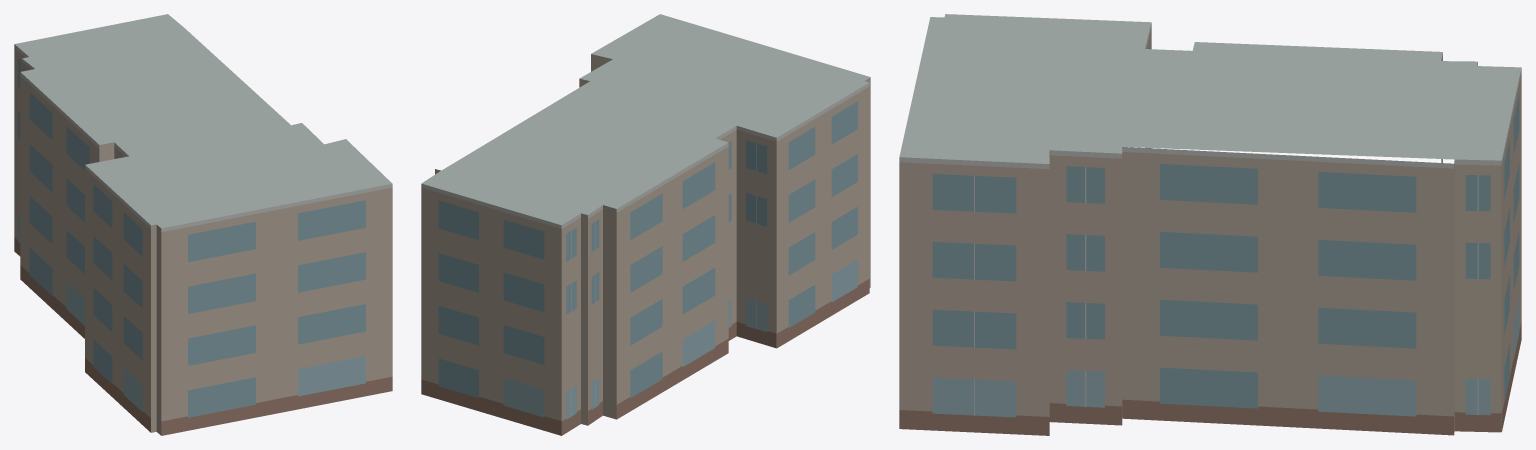
File: survey-upis-32663435.glb
3 views of the same model, side by side, from view 1: azimuth 30°, elevation 25°; view 2: azimuth 150°, elevation 25°; view 3: azimuth 270°, elevation 25° (orthographic). The views are drawn at different scales.
Parts seen in each view (by area): view 1: survey-upis-32663435.tmp; view 2: survey-upis-32663435.tmp; view 3: survey-upis-32663435.tmp.
Boxes of the visible parts, x1=… form: survey-upis-32663435.tmp: x1=14, y1=14, x2=392, y2=435; survey-upis-32663435.tmp: x1=421, y1=14, x2=870, y2=435; survey-upis-32663435.tmp: x1=899, y1=14, x2=1521, y2=435.
Bounding box in the file's own units: 15.65 × 13.2 × 27.41.
